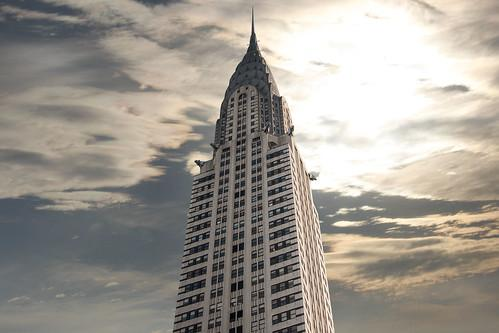building: (171, 42, 336, 333)
